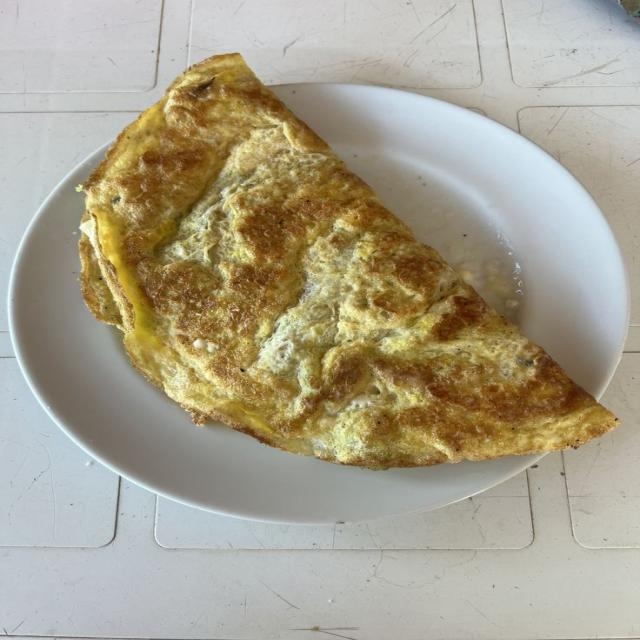omelette: (80, 55, 616, 469)
